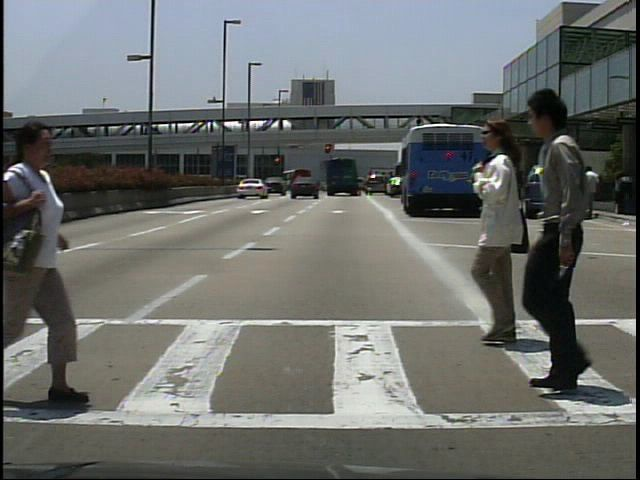person: (514, 77, 635, 395), (5, 119, 101, 407), (446, 117, 552, 349), (582, 168, 602, 218), (485, 162, 502, 215), (506, 166, 524, 216)
